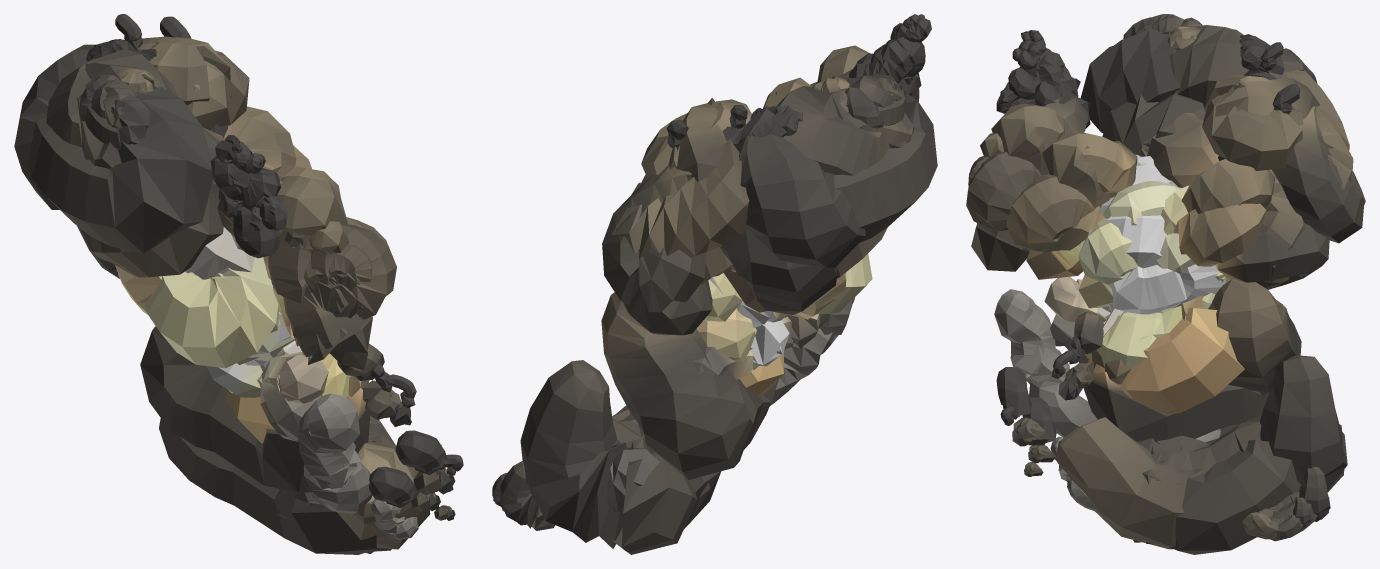
The model's file is Fx_explosion1.fbx.
3 renders of one model, left to right at view 1: azimuth 30°, elevation 25°; view 2: azimuth 150°, elevation 25°; view 3: azimuth 270°, elevation 25°, orthographic. The views are drawn at different scales.
Parts seen in each view (by area): view 1: fx_explosion_1; view 2: fx_explosion_1; view 3: fx_explosion_1.
Boxes of the visible parts, x1,y1,x2,y2 form: fx_explosion_1: (14, 14, 463, 554); fx_explosion_1: (492, 14, 937, 554); fx_explosion_1: (966, 14, 1365, 554).
Bounding box in the file's own units: 7.87 × 10.57 × 8.75.
